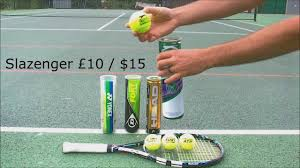tennis ball: (125, 8, 154, 36), (173, 131, 202, 154), (158, 132, 180, 157), (144, 132, 164, 156)
